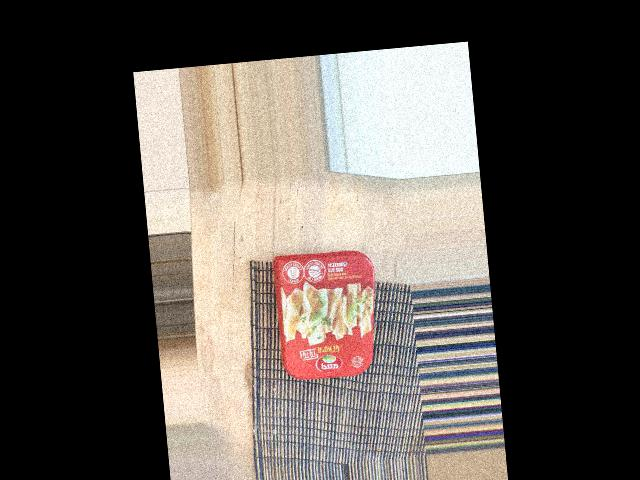cheese: (277, 329, 416, 429)
